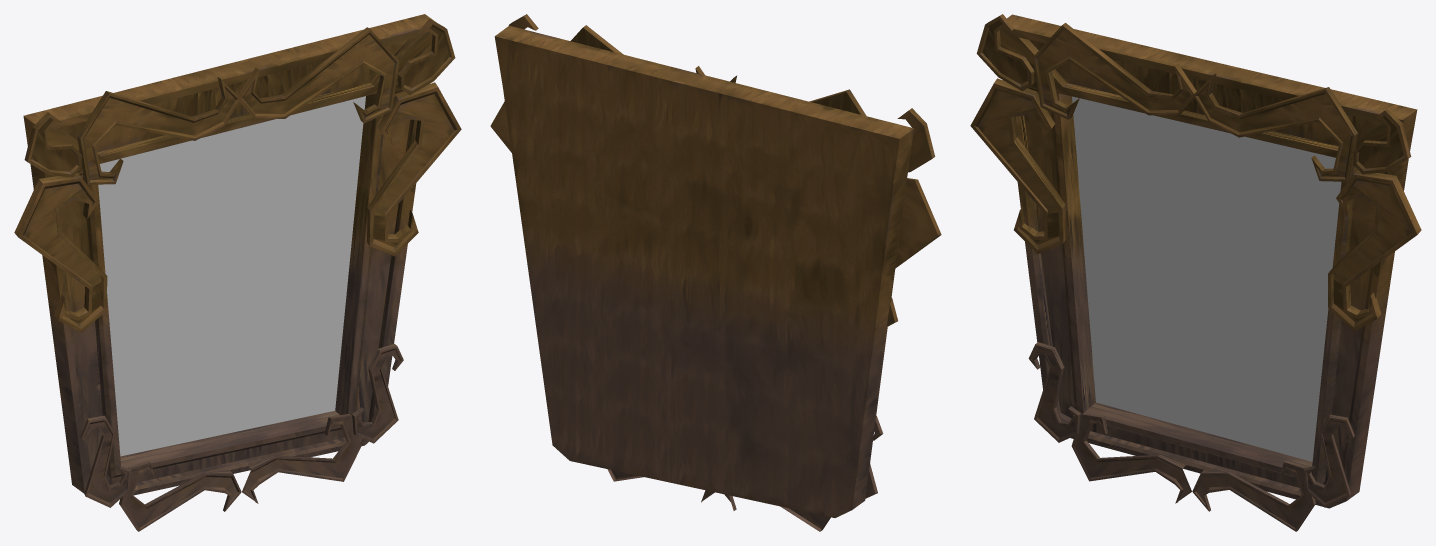
The model's file is cuadro.fbx.
3 views of the same model, side by side, from view 1: azimuth 30°, elevation 25°; view 2: azimuth 150°, elevation 25°; view 3: azimuth 330°, elevation 25° (orthographic).
Visible parts, largest first — view 1: NurbsPath.010; view 2: NurbsPath.010; view 3: NurbsPath.010.
Boxes of the visible parts, <box> form: NurbsPath.010: <box>14,14,461,531</box>; NurbsPath.010: <box>490,14,941,531</box>; NurbsPath.010: <box>970,14,1421,531</box>.
Bounding box in the file's own units: 95.64 × 91.7 × 8.01.
